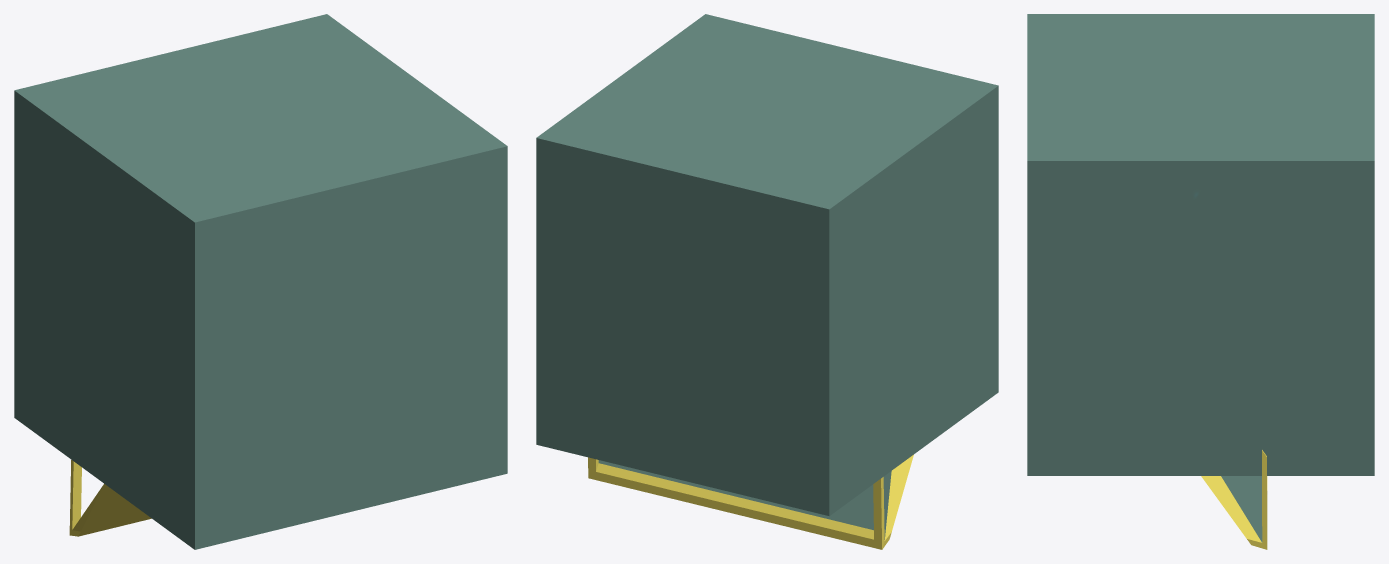
The model's file is house1.glb.
The picture shows the model from 3 angles, left to right: view 1: azimuth 30°, elevation 25°; view 2: azimuth 150°, elevation 25°; view 3: azimuth 270°, elevation 25°; orthographic projection. The views are drawn at different scales.
Parts seen in each view (by area): view 1: house -col; view 2: house -col; view 3: house -col.
Boxes of the visible parts, box(x1,y1,x2,y2) form: house -col: box(14, 14, 507, 549); house -col: box(536, 14, 998, 549); house -col: box(1027, 14, 1374, 549).
Size of the model in its own units: 5.83 by 7.14 by 5.78.
Materials: 1 (1 with a texture image).
